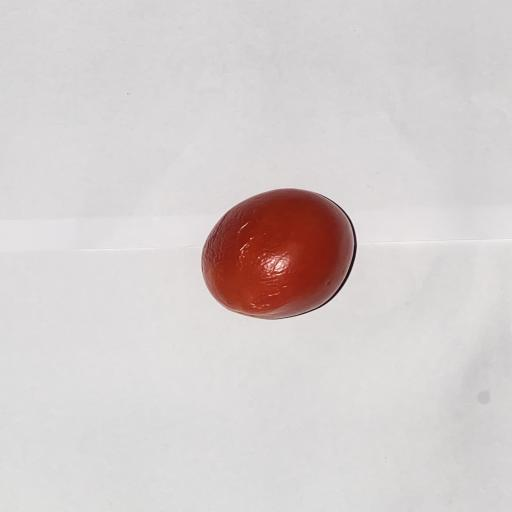spoiled: (202, 189, 354, 319)
